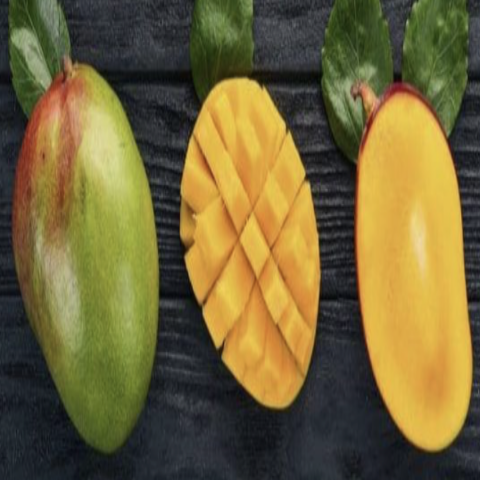mango: (7, 41, 167, 471), (172, 74, 323, 467), (340, 61, 479, 462)
